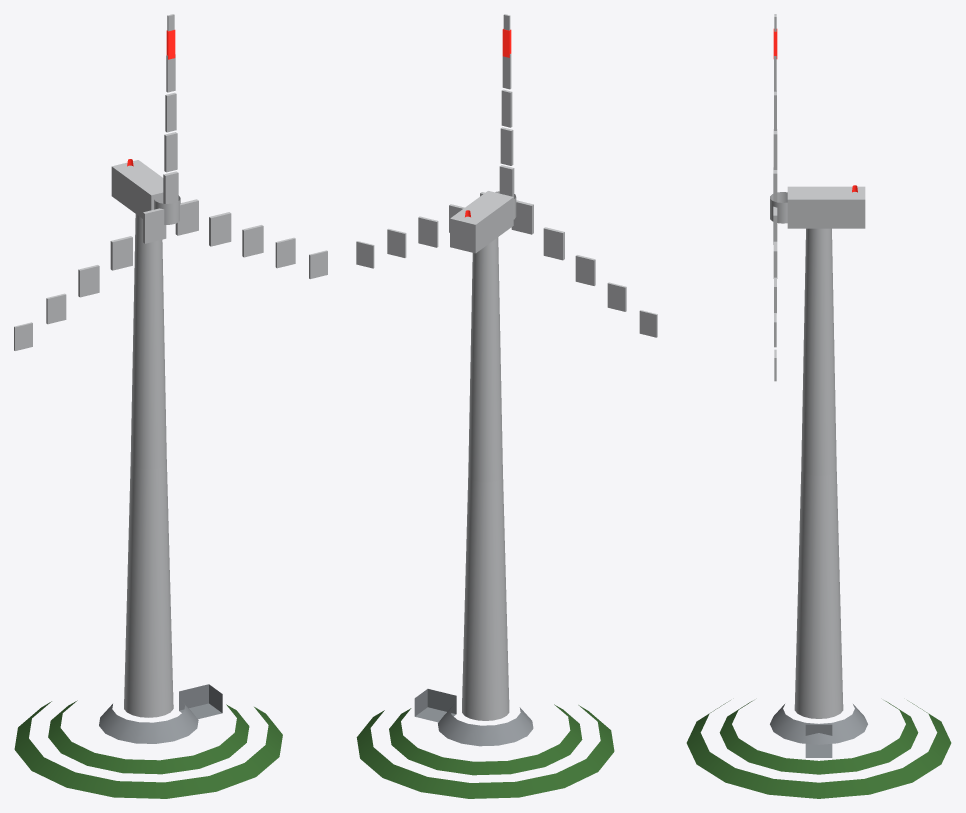
The model's file is lm_22_cau_dat_wind_turbine.glb.
The picture shows the model from 3 angles, left to right: view 1: azimuth 30°, elevation 25°; view 2: azimuth 150°, elevation 25°; view 3: azimuth 270°, elevation 25°; orthographic projection. The views are drawn at different scales.
Parts seen in each view (by area): view 1: Tower_Nacelle_Rotor, CauDat_Tea_Terrace, Concrete_Foundation_Substation; view 2: Tower_Nacelle_Rotor, CauDat_Tea_Terrace, Concrete_Foundation_Substation; view 3: Tower_Nacelle_Rotor, CauDat_Tea_Terrace, Concrete_Foundation_Substation.
Boxes of the visible parts, x1,y1,x2,y2 form: Tower_Nacelle_Rotor: (14, 14, 327, 717); CauDat_Tea_Terrace: (14, 700, 282, 798); Concrete_Foundation_Substation: (99, 684, 222, 743); Tower_Nacelle_Rotor: (356, 14, 657, 720); CauDat_Tea_Terrace: (356, 704, 614, 798); Concrete_Foundation_Substation: (414, 689, 533, 746); Tower_Nacelle_Rotor: (770, 14, 865, 718); CauDat_Tea_Terrace: (686, 700, 951, 798); Concrete_Foundation_Substation: (770, 704, 867, 757).
Size of the model in its own units: 37.36 by 84.82 by 28.
